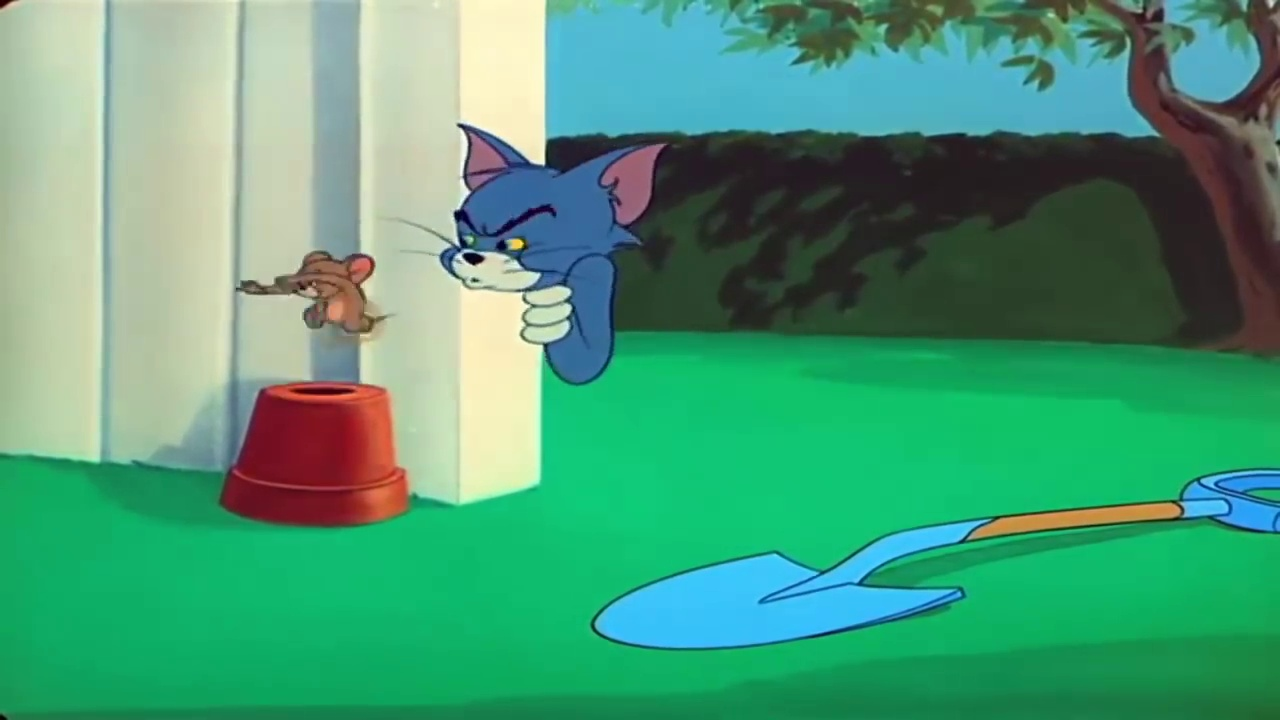tom: (430, 121, 672, 303)
